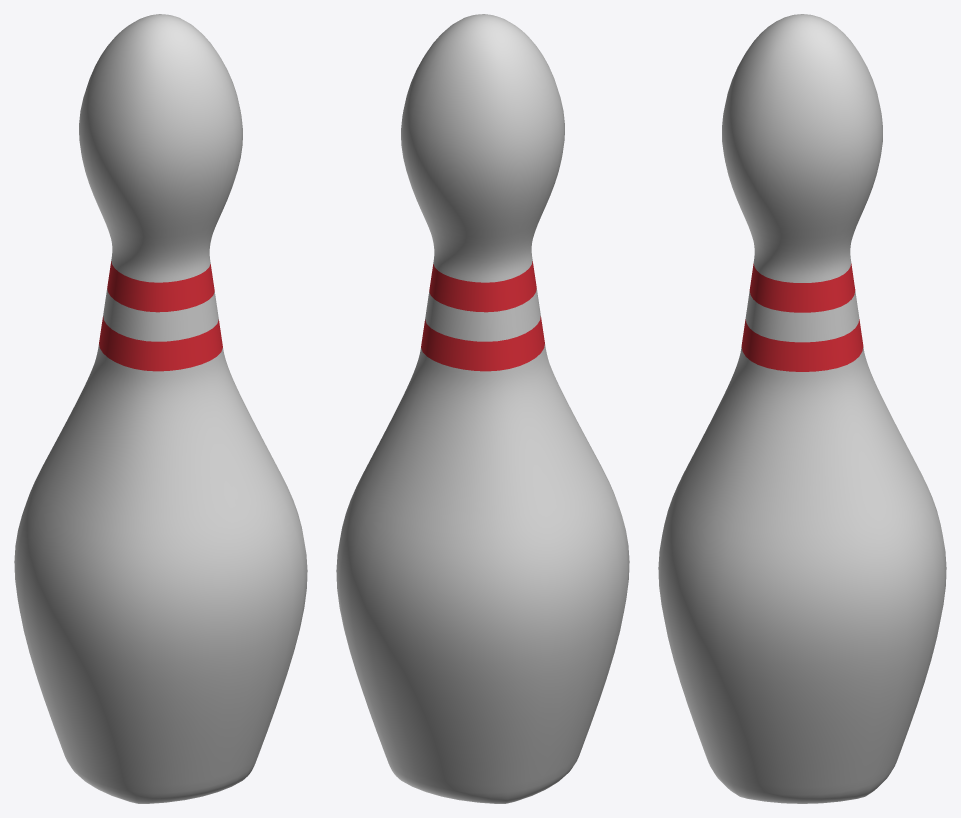
The model's file is bowling kegel.fbx.
3 views of the same model, side by side, from view 1: azimuth 30°, elevation 25°; view 2: azimuth 150°, elevation 25°; view 3: azimuth 270°, elevation 25° (orthographic).
Parts seen in each view (by area): view 1: Cube; view 2: Cube; view 3: Cube.
Boxes of the visible parts, bbox=[...] form: Cube: bbox=[14, 14, 307, 803]; Cube: bbox=[336, 14, 629, 803]; Cube: bbox=[658, 14, 946, 803].
Size of the model in its own units: 30.15 by 86.93 by 30.15.
